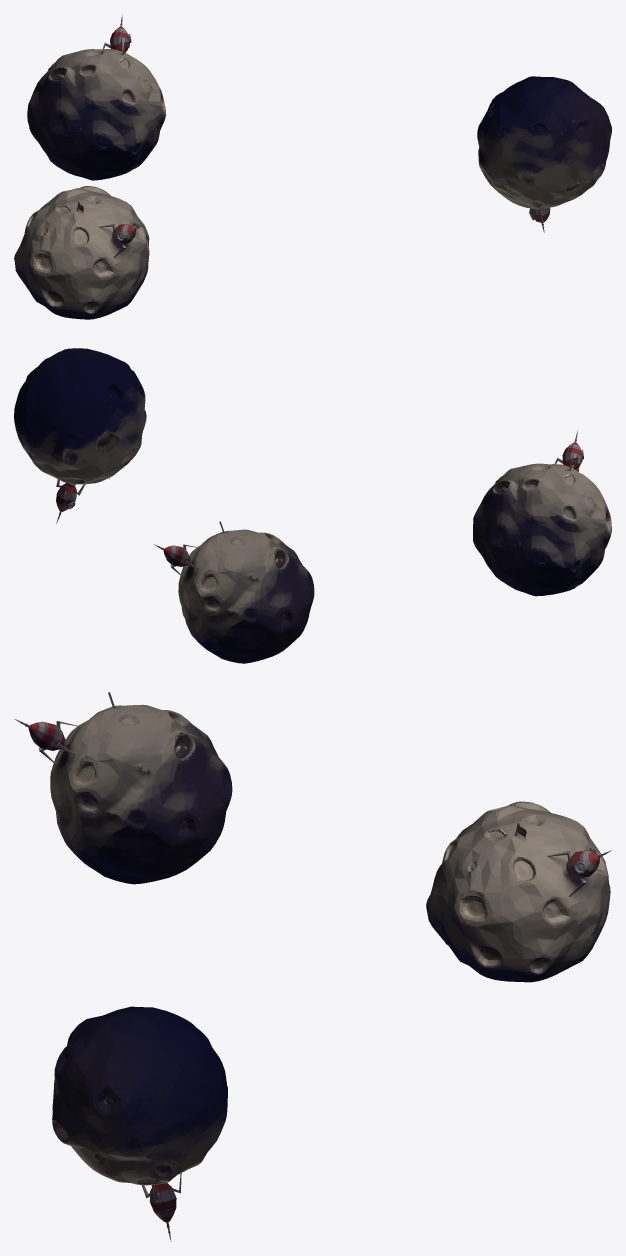
Rendered from planets.glb.
3 views of the same model, one above another, from view 1: azimuth 30°, elevation 25°; view 2: azimuth 150°, elevation 25°; view 3: azimuth 270°, elevation 25° (orthographic). The views are drawn at different scales.
Parts seen in each view (by area): view 1: Moon3, Moon2, Moon1; view 2: Moon1, Moon2, Moon3; view 3: Moon1, Moon2, Moon3.
Boxes of the visible parts, left/top/right/bottom form: Moon3: left=27, top=15, right=166, bottom=180; Moon2: left=477, top=76, right=611, bottom=232; Moon1: left=14, top=186, right=149, bottom=319; Moon1: left=473, top=430, right=611, bottom=596; Moon2: left=14, top=348, right=146, bottom=523; Moon3: left=153, top=521, right=314, bottom=663; Moon1: left=14, top=692, right=232, bottom=884; Moon2: left=52, top=1006, right=227, bottom=1241; Moon3: left=426, top=801, right=611, bottom=982.
Bounding box in the file's own units: 360 × 100 × 239.
Materials: 1 (1 with a texture image).
